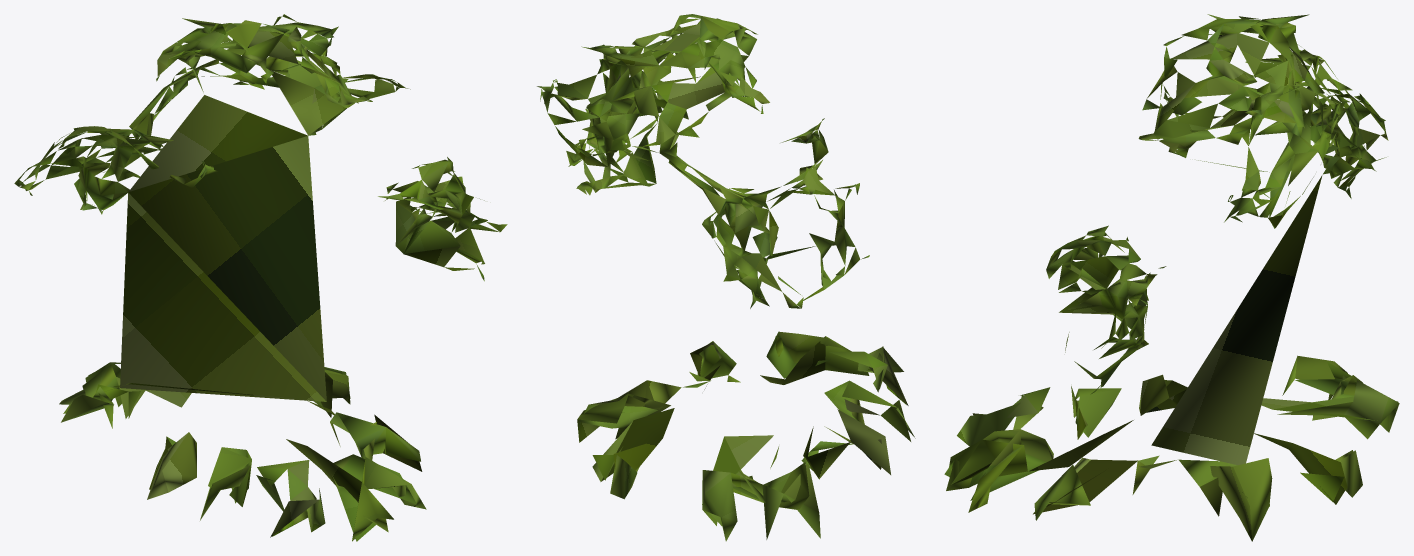
The model's file is tree_gnarled_shadow.glb.
3 renders of one model, left to right at view 1: azimuth 30°, elevation 25°; view 2: azimuth 150°, elevation 25°; view 3: azimuth 270°, elevation 25°, orthographic. The views are drawn at different scales.
Parts seen in each view (by area): view 1: plant; view 2: plant; view 3: plant.
Boxes of the visible parts, x1,y1,x2,y2 form: plant: [14, 14, 507, 541]; plant: [537, 14, 915, 541]; plant: [944, 14, 1399, 541].
Bounding box in the file's own units: 4.38 × 4.63 × 4.06.
1 material, 1 textured.
